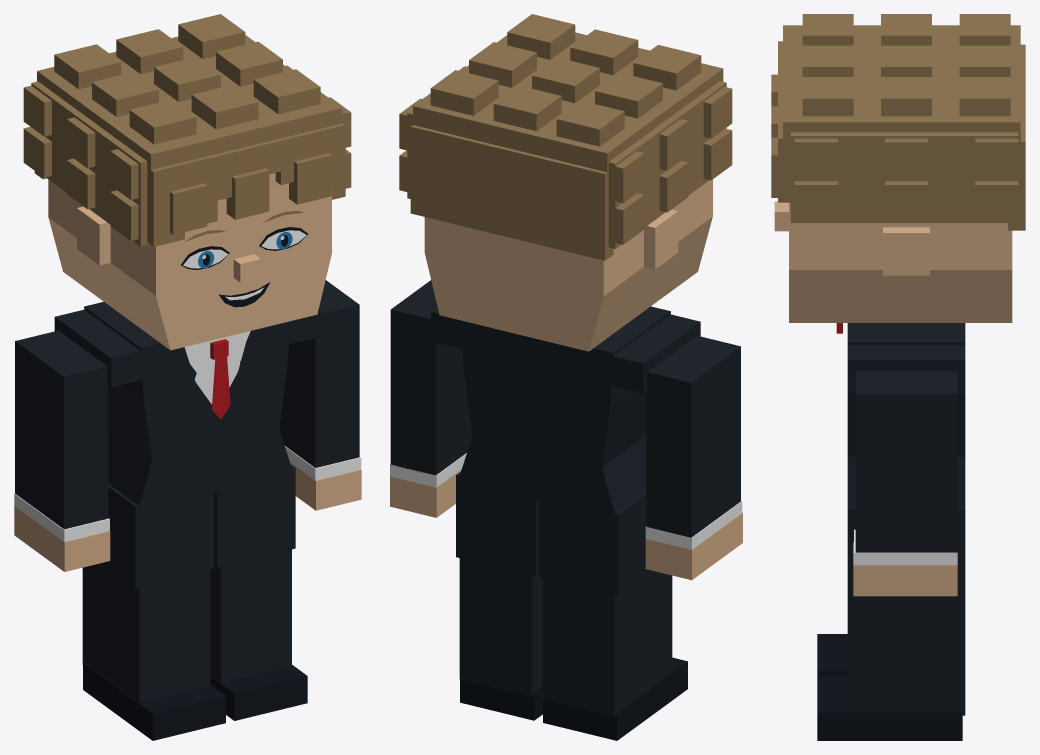
The model's file is female_curly.glb.
The picture shows the model from 3 angles, left to right: view 1: azimuth 30°, elevation 25°; view 2: azimuth 150°, elevation 25°; view 3: azimuth 270°, elevation 25°; orthographic projection. The views are drawn at different scales.
Parts seen in each view (by area): view 1: char_hair_visual, char_torso_visual, char_head_visual, char_leg_negx_visual, char_arm_negx_visual, char_leg_posx_visual, char_arm_posx_visual, char_hand_negx_visual, char_hand_posx_visual, char_eye_negx_visual, char_eye_posx_visual; view 2: char_hair_visual, char_torso_visual, char_head_visual, char_leg_negx_visual, char_arm_negx_visual, char_arm_posx_visual, char_leg_posx_visual, char_hand_negx_visual, char_hand_posx_visual; view 3: char_hair_visual, char_head_visual, char_arm_posx_visual, char_leg_posx_visual, char_torso_visual, char_hand_posx_visual, char_leg_negx_visual.
Boxes of the visible parts, left/top/right/bottom form: char_hair_visual: left=23, top=14, right=351, bottom=246; char_torso_visual: left=54, top=301, right=319, bottom=587; char_head_visual: left=48, top=173, right=331, bottom=350; char_leg_negx_visual: left=82, top=563, right=225, bottom=740; char_arm_negx_visual: left=14, top=330, right=109, bottom=541; char_leg_posx_visual: left=210, top=544, right=307, bottom=720; char_arm_posx_visual: left=279, top=280, right=361, bottom=480; char_hand_negx_visual: left=14, top=506, right=110, bottom=571; char_hand_posx_visual: left=290, top=462, right=361, bottom=510; char_eye_negx_visual: left=181, top=246, right=229, bottom=269; char_eye_posx_visual: left=259, top=227, right=307, bottom=250; char_hair_visual: left=399, top=14, right=732, bottom=260; char_torso_visual: left=431, top=306, right=700, bottom=596; char_head_visual: left=424, top=179, right=712, bottom=351; char_leg_negx_visual: left=542, top=571, right=687, bottom=740; char_arm_negx_visual: left=645, top=335, right=742, bottom=549; char_arm_posx_visual: left=390, top=280, right=472, bottom=487; char_leg_posx_visual: left=459, top=553, right=542, bottom=720; char_hand_negx_visual: left=645, top=512, right=742, bottom=580; char_hand_posx_visual: left=390, top=469, right=461, bottom=517; char_hair_visual: left=771, top=14, right=1025, bottom=230; char_head_visual: left=774, top=201, right=1012, bottom=322; char_arm_posx_visual: left=854, top=371, right=957, bottom=565; char_leg_posx_visual: left=817, top=593, right=965, bottom=740; char_torso_visual: left=836, top=323, right=965, bottom=592; char_hand_posx_visual: left=853, top=542, right=957, bottom=596; char_leg_negx_visual: left=817, top=634, right=847, bottom=675.
Size of the model in its own units: 0.91 by 1.82 by 0.648.
